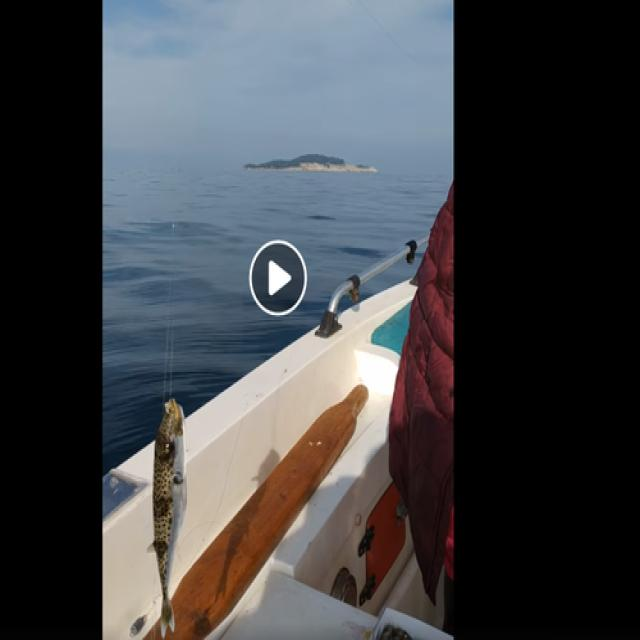Balik: (150, 399, 186, 638)
